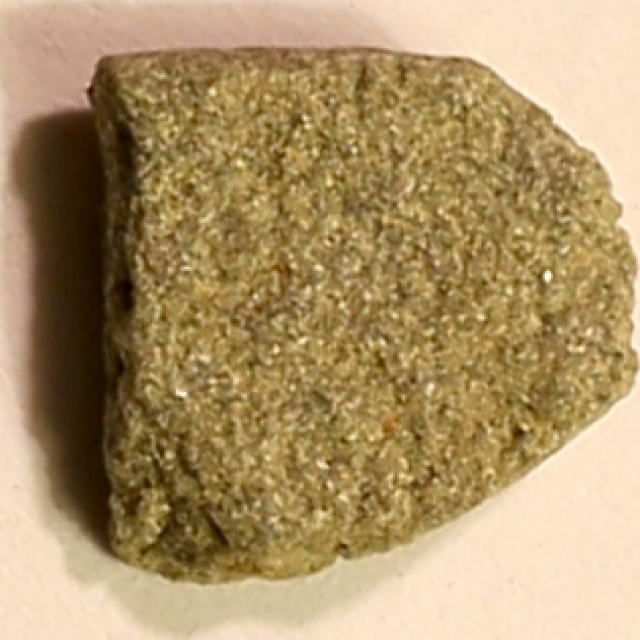stone: (81, 39, 640, 586)
